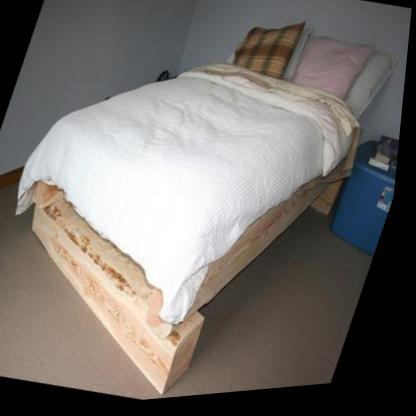Bed: (0, 0, 413, 416)
